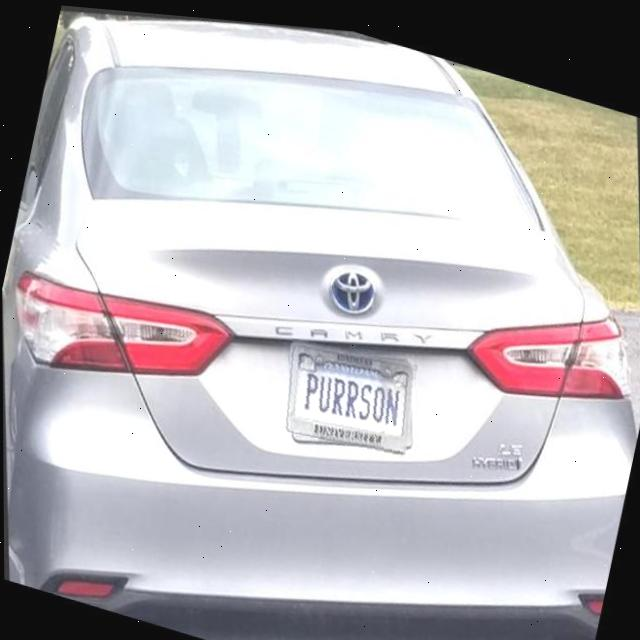LicensePlate: (284, 337, 414, 445)
